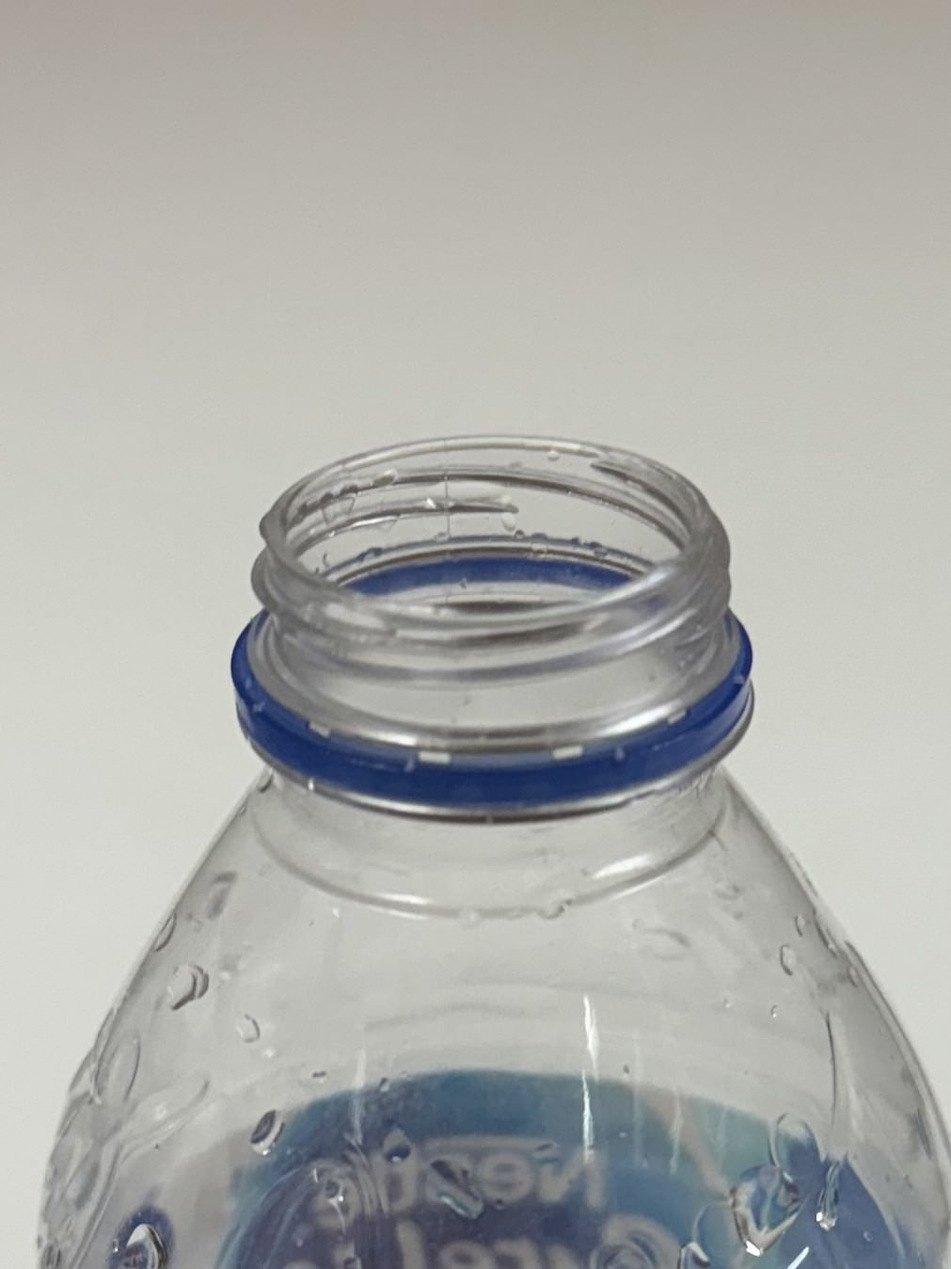no_cap: (224, 429, 763, 830)
